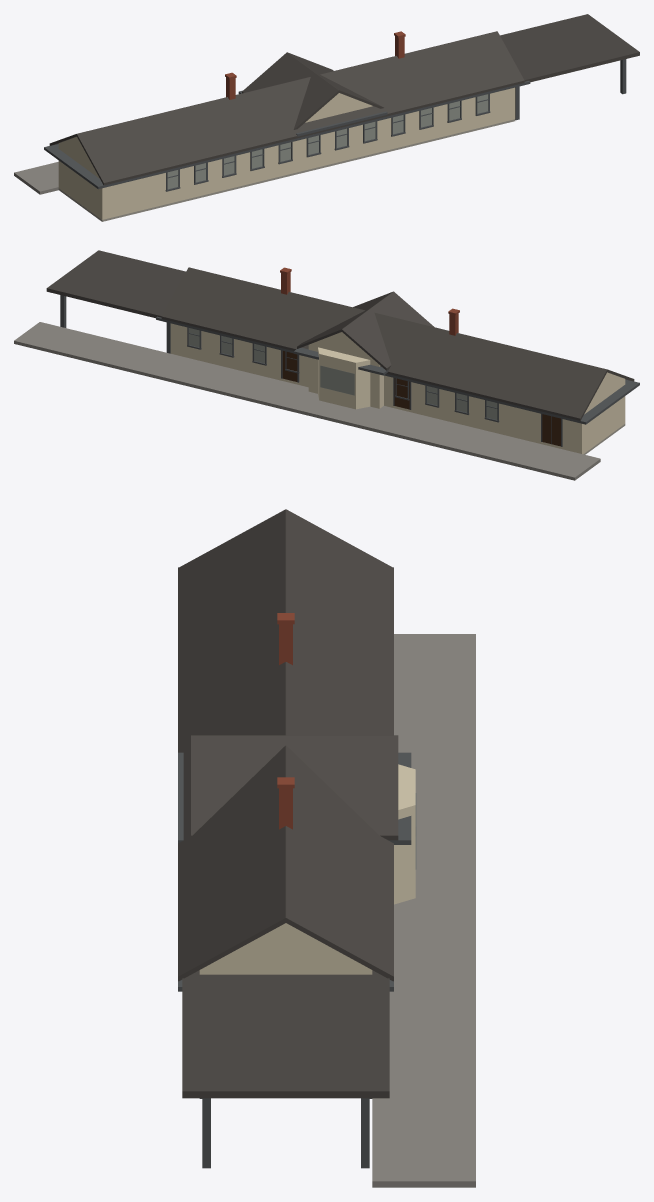
The model's file is Elkhorn_Depot.glb.
The picture shows the model from 3 angles, top to bottom: view 1: azimuth 30°, elevation 25°; view 2: azimuth 150°, elevation 25°; view 3: azimuth 270°, elevation 25°; orthographic projection. The views are drawn at different scales.
Parts seen in each view (by area): view 1: roof, stucco, trim, glass, sash, foundation, platform, chimney; view 2: roof, platform, stucco, trim, glass, doors, sash, chimney; view 3: roof, platform, stucco, trim, chimney.
Part boxes in pixels (x1,y1,x2,y2): roof: [49, 14, 639, 185]; stucco: [58, 87, 515, 219]; trim: [44, 59, 626, 189]; glass: [168, 94, 487, 189]; sash: [165, 94, 490, 191]; foundation: [58, 119, 515, 221]; platform: [14, 162, 58, 194]; chimney: [225, 31, 405, 99]; roof: [46, 250, 634, 420]; platform: [14, 322, 600, 480]; stucco: [170, 323, 625, 454]; trim: [60, 295, 639, 446]; glass: [189, 328, 496, 419]; doors: [282, 351, 560, 446]; sash: [187, 327, 499, 422]; chimney: [280, 267, 459, 335]; roof: [178, 509, 398, 1098]; platform: [372, 634, 475, 1187]; stucco: [199, 764, 415, 974]; trim: [178, 567, 411, 1168]; chimney: [277, 613, 294, 829].
Bounding box in the file's own units: 1.58 × 0.2522 × 0.3626.
